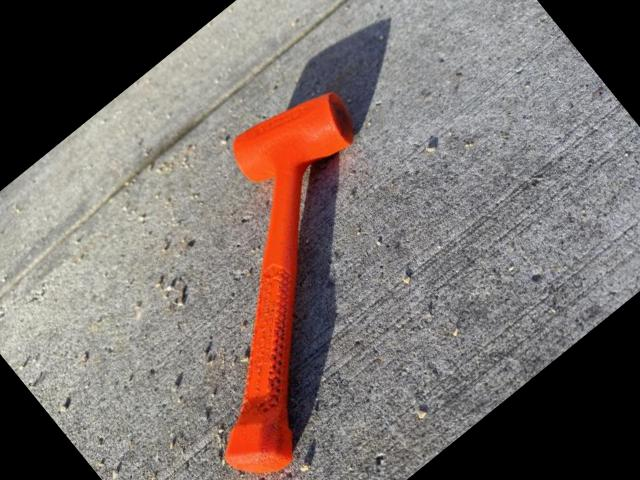hammer: (68, 67, 498, 480)
